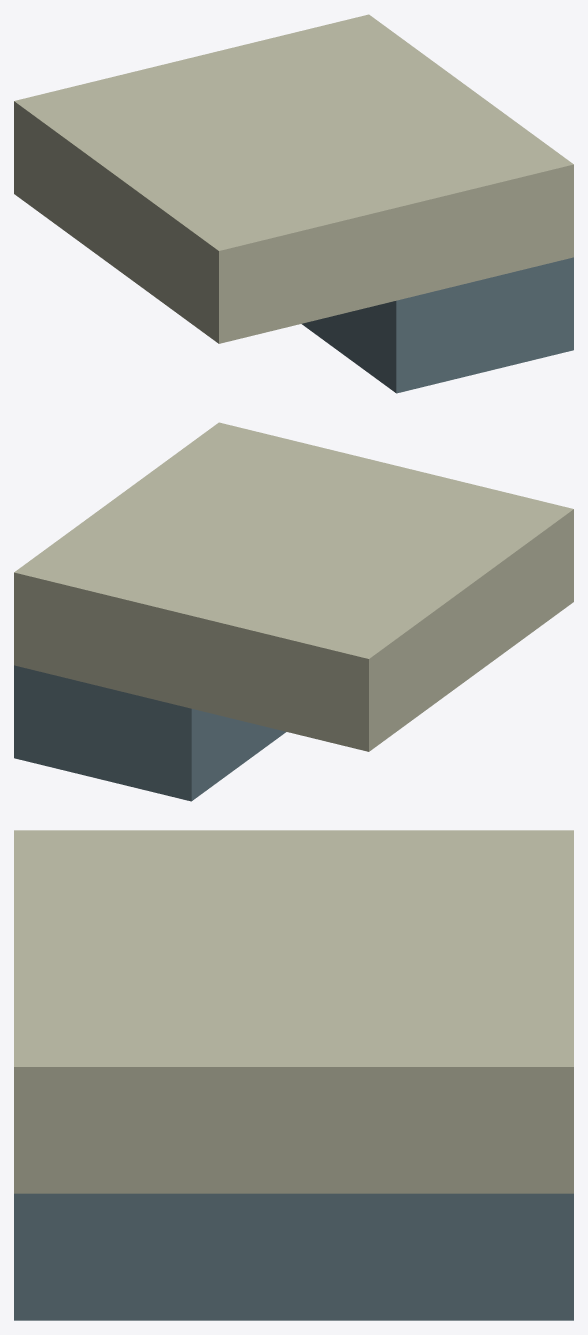
The model's file is sb03.tread.palette.fbx.
3 renders of one model, top to bottom at view 1: azimuth 30°, elevation 25°; view 2: azimuth 150°, elevation 25°; view 3: azimuth 270°, elevation 25°, orthographic. The views are drawn at different scales.
Visible parts, largest first — view 1: VW.tread.nose.001, VW.riser.heel.001; view 2: VW.tread.nose.001, VW.riser.heel.001; view 3: VW.tread.nose.001, VW.riser.heel.001.
Boxes of the visible parts, x1,y1,x2,y2 form: VW.tread.nose.001: (14,14,573,343); VW.riser.heel.001: (302,257,573,393); VW.tread.nose.001: (14,422,573,751); VW.riser.heel.001: (14,665,285,801); VW.tread.nose.001: (14,830,573,1193); VW.riser.heel.001: (14,1193,573,1320).
Size of the model in its own units: 50 by 25 by 50.
1 material, 1 textured.
